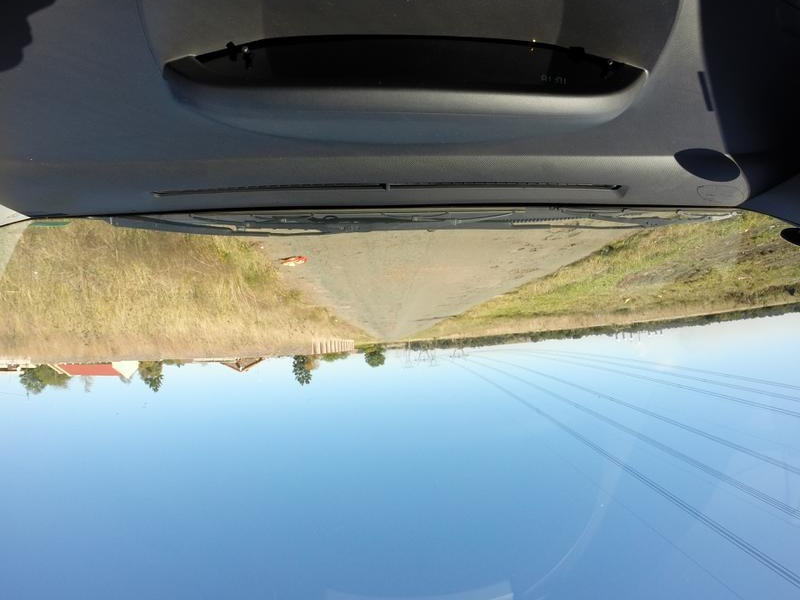pothole: (551, 222, 573, 233), (509, 265, 541, 270), (485, 260, 497, 270), (510, 274, 526, 281), (565, 241, 577, 249), (527, 249, 535, 254)
